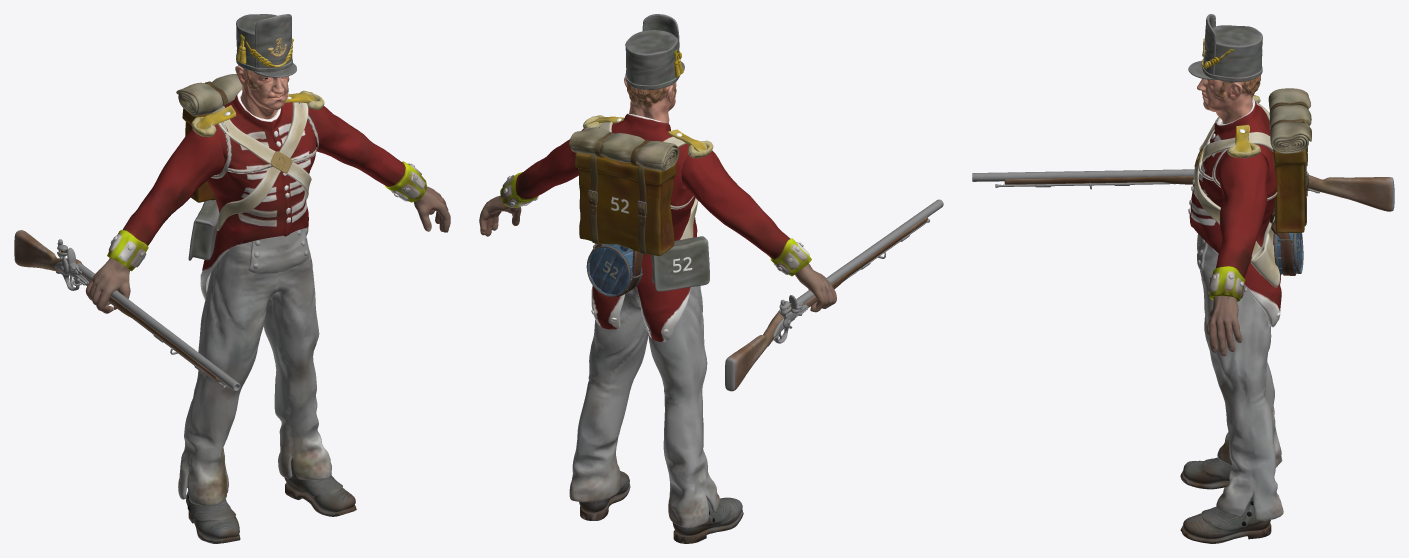
File: infantry_waterloo.glb
3 renders of one model, left to right at view 1: azimuth 30°, elevation 25°; view 2: azimuth 150°, elevation 25°; view 3: azimuth 270°, elevation 25°, orthographic. The views are drawn at different scales.
Visible parts, largest first — view 1: Trousers_1_Trousers_10_0, Jacket_1_Jacket_10_0, Shoes1_1_Shoes1_10_0, Webbing_Webbing0_0, Knapsack_Knapsack0_0, Shako_Shako0_0, Musket_Musket0_0, Hands_Hands0_0, Musket_Musket1_0, Head_17_Head_170_0, Cartouche_Cartouche1_0, Epps_Epps0_0 (+1 smaller); view 2: Trousers_1_Trousers_10_0, Jacket_1_Jacket_10_0, Knapsack_Knapsack0_0, Shako_Shako0_0, Musket_Musket0_0, Cartouche_Cartouche1_0, Shoes1_1_Shoes1_10_0, Bottle_Bottle0_0, Hands_Hands0_0, Musket_Musket1_0, Head_17_Head_170_0, Epps_Epps0_0; view 3: Trousers_1_Trousers_10_0, Jacket_1_Jacket_10_0, Knapsack_Knapsack0_0, Shoes1_1_Shoes1_10_0, Shako_Shako0_0, Musket_Musket1_0, Webbing_Webbing0_0, Musket_Musket0_0, Head_17_Head_170_0, Hands_Hands0_0, Bottle_Bottle0_0, Epps_Epps0_0.
Part boxes in pixels (x1,y1,x2,y2): Trousers_1_Trousers_10_0: [178, 228, 331, 505]; Jacket_1_Jacket_10_0: [107, 90, 426, 299]; Shoes1_1_Shoes1_10_0: [186, 458, 356, 543]; Webbing_Webbing0_0: [212, 93, 311, 230]; Knapsack_Knapsack0_0: [176, 74, 318, 202]; Shako_Shako0_0: [236, 14, 296, 77]; Musket_Musket0_0: [14, 230, 240, 391]; Hands_Hands0_0: [85, 186, 450, 313]; Musket_Musket1_0: [14, 230, 221, 382]; Head_17_Head_170_0: [235, 65, 289, 119]; Cartouche_Cartouche1_0: [188, 200, 219, 260]; Epps_Epps0_0: [191, 90, 324, 136]; Trousers_1_Trousers_10_0: [569, 286, 719, 528]; Jacket_1_Jacket_10_0: [500, 113, 811, 341]; Knapsack_Knapsack0_0: [569, 127, 693, 256]; Shako_Shako0_0: [625, 14, 684, 89]; Musket_Musket0_0: [725, 199, 943, 391]; Cartouche_Cartouche1_0: [651, 236, 709, 291]; Shoes1_1_Shoes1_10_0: [579, 471, 743, 543]; Bottle_Bottle0_0: [588, 243, 643, 296]; Hands_Hands0_0: [479, 195, 836, 312]; Musket_Musket1_0: [727, 216, 927, 390]; Head_17_Head_170_0: [624, 76, 676, 123]; Epps_Epps0_0: [583, 115, 713, 158]; Trousers_1_Trousers_10_0: [1197, 234, 1283, 520]; Jacket_1_Jacket_10_0: [1189, 98, 1281, 327]; Knapsack_Knapsack0_0: [1198, 88, 1311, 232]; Shoes1_1_Shoes1_10_0: [1180, 457, 1271, 543]; Shako_Shako0_0: [1188, 14, 1262, 82]; Musket_Musket1_0: [1004, 175, 1392, 211]; Webbing_Webbing0_0: [1194, 102, 1280, 287]; Musket_Musket0_0: [972, 169, 1394, 210]; Head_17_Head_170_0: [1197, 75, 1260, 123]; Hands_Hands0_0: [1207, 296, 1242, 356]; Bottle_Bottle0_0: [1269, 208, 1302, 275]; Epps_Epps0_0: [1227, 95, 1260, 158].
Size of the model in its own units: 24.24 by 32.97 by 25.68.
22 materials, 19 textured.
